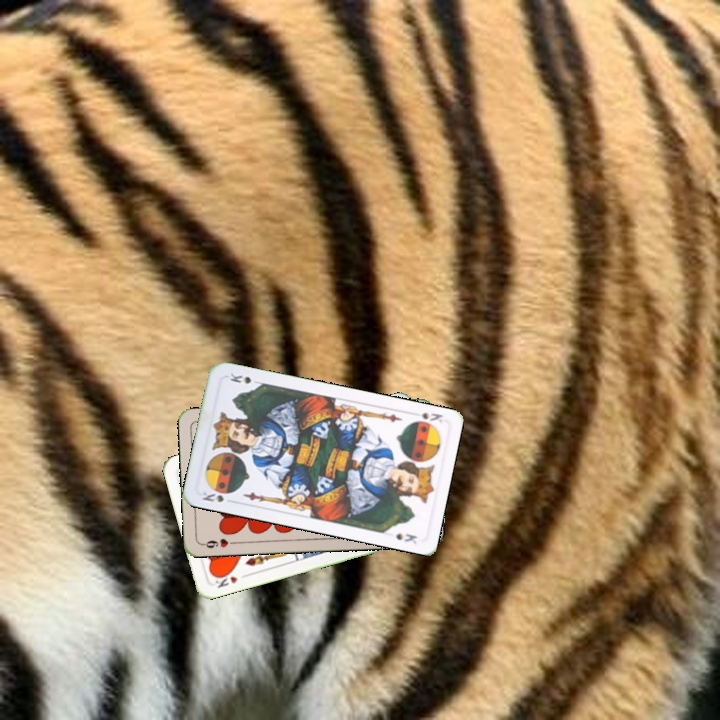H9: (198, 534, 239, 551)
HK: (211, 568, 241, 590)
SK: (409, 408, 445, 429), (197, 488, 237, 505)
